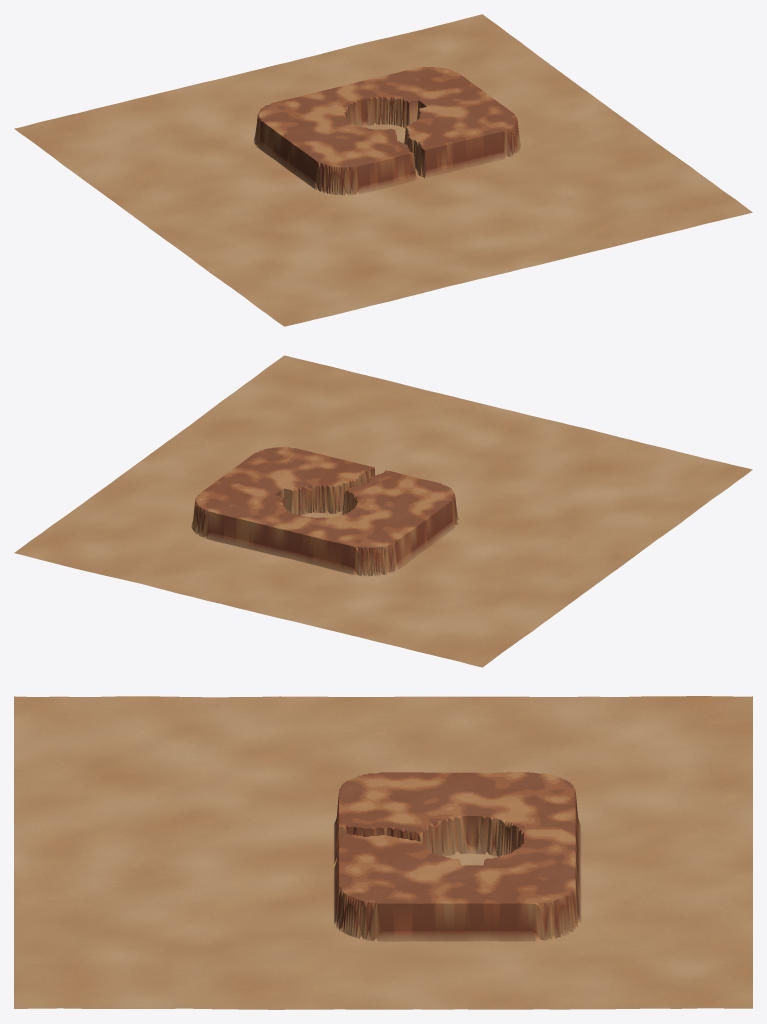
File: terrain.glb
3 renders of one model, top to bottom at view 1: azimuth 30°, elevation 25°; view 2: azimuth 150°, elevation 25°; view 3: azimuth 270°, elevation 25°, orthographic. The views are drawn at different scales.
Parts seen in each view (by area): view 1: Terrain_0_-1, Terrain_-1_-1, Terrain_-1_0, Terrain_1_-1, Terrain_0_0, Terrain_0_-2, Terrain_-2_0, Terrain_-2_-2, Terrain_-1_-2, Terrain_-2_1, Terrain_1_-2, Terrain_-2_-1 (+24 smaller); view 2: Terrain_0_1, Terrain_-1_1, Terrain_-1_0, Terrain_1_1, Terrain_-2_-1, Terrain_1_-2, Terrain_-2_0, Terrain_-2_-2, Terrain_-1_-2, Terrain_0_0, Terrain_0_-2, Terrain_-2_1 (+24 smaller); view 3: Terrain_1_0, Terrain_1_-1, Terrain_1_1, Terrain_0_-1, Terrain_0_1, Terrain_-1_-2, Terrain_1_-2, Terrain_-2_-2, Terrain_0_-2, Terrain_0_0, Terrain_-2_1, Terrain_-2_-1 (+24 smaller).
Part boxes in pixels (x1=…): Terrain_0_-1: x1=384, y1=122, x2=530, y2=209; Terrain_-1_-1: x1=290, y1=144, x2=437, y2=232; Terrain_-1_0: x1=236, y1=105, x2=382, y2=193; Terrain_1_-1: x1=477, y1=113, x2=624, y2=187; Terrain_0_0: x1=330, y1=82, x2=476, y2=147; Terrain_0_-2: x1=438, y1=187, x2=584, y2=249; Terrain_-2_0: x1=142, y1=154, x2=289, y2=216; Terrain_-2_-2: x1=250, y1=233, x2=397, y2=295; Terrain_-1_-2: x1=344, y1=210, x2=491, y2=272; Terrain_-2_1: x1=88, y1=114, x2=234, y2=176; Terrain_1_-2: x1=531, y1=164, x2=678, y2=227; Terrain_-2_-1: x1=196, y1=194, x2=343, y2=255; Terrain_0_1: x1=182, y1=502, x2=328, y2=590; Terrain_-1_1: x1=275, y1=525, x2=422, y2=613; Terrain_-1_0: x1=330, y1=485, x2=476, y2=573; Terrain_1_1: x1=88, y1=493, x2=235, y2=567; Terrain_-2_-1: x1=477, y1=495, x2=624, y2=557; Terrain_1_-2: x1=250, y1=386, x2=397, y2=448; Terrain_-2_0: x1=423, y1=534, x2=570, y2=596; Terrain_-2_-2: x1=531, y1=455, x2=678, y2=517; Terrain_-1_-2: x1=438, y1=432, x2=584, y2=494; Terrain_0_0: x1=236, y1=462, x2=382, y2=524; Terrain_0_-2: x1=344, y1=410, x2=491, y2=471; Terrain_-2_1: x1=369, y1=574, x2=516, y2=636; Terrain_1_0: x1=383, y1=879, x2=531, y2=978; Terrain_1_-1: x1=235, y1=879, x2=383, y2=978; Terrain_1_1: x1=531, y1=879, x2=678, y2=977; Terrain_0_-1: x1=235, y1=817, x2=383, y2=915; Terrain_0_1: x1=531, y1=817, x2=678, y2=915; Terrain_-1_-2: x1=88, y1=790, x2=235, y2=853; Terrain_1_-2: x1=88, y1=914, x2=235, y2=977; Terrain_-2_-2: x1=88, y1=727, x2=235, y2=790; Terrain_0_-2: x1=88, y1=852, x2=235, y2=915; Terrain_0_0: x1=383, y1=817, x2=531, y2=879; Terrain_-2_1: x1=531, y1=727, x2=678, y2=790; Terrain_-2_-1: x1=235, y1=727, x2=383, y2=790.
Size of the model in its own units: 600 by 33.21 by 600.
